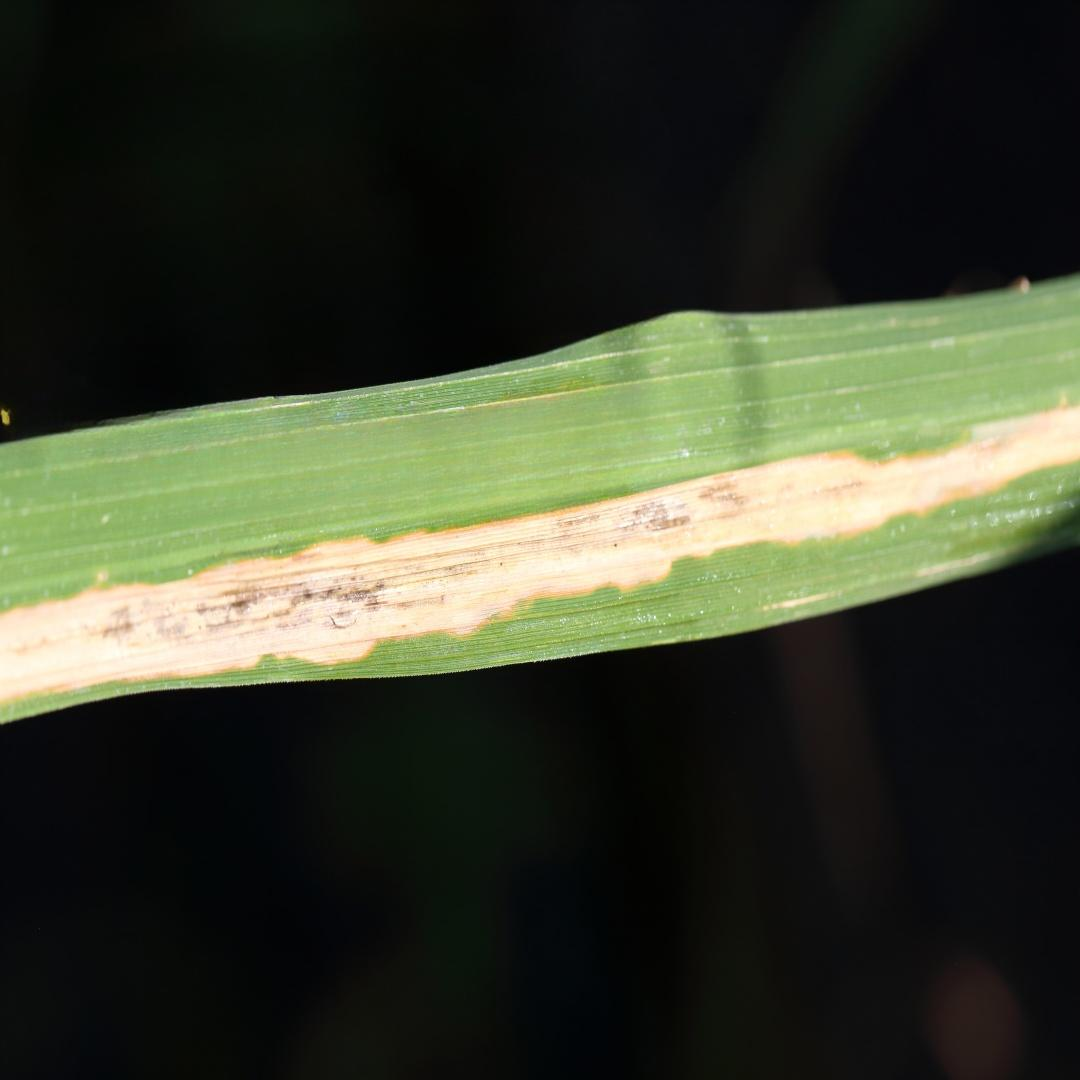BLB: (1, 392, 1079, 704)
LEAF: (0, 275, 1079, 723)
